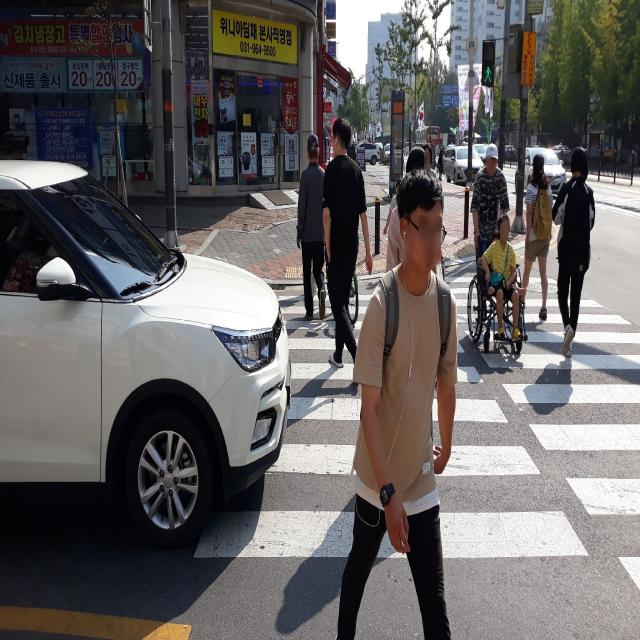초록불: (481, 40, 496, 86)
횡단보도: (185, 278, 640, 635)
